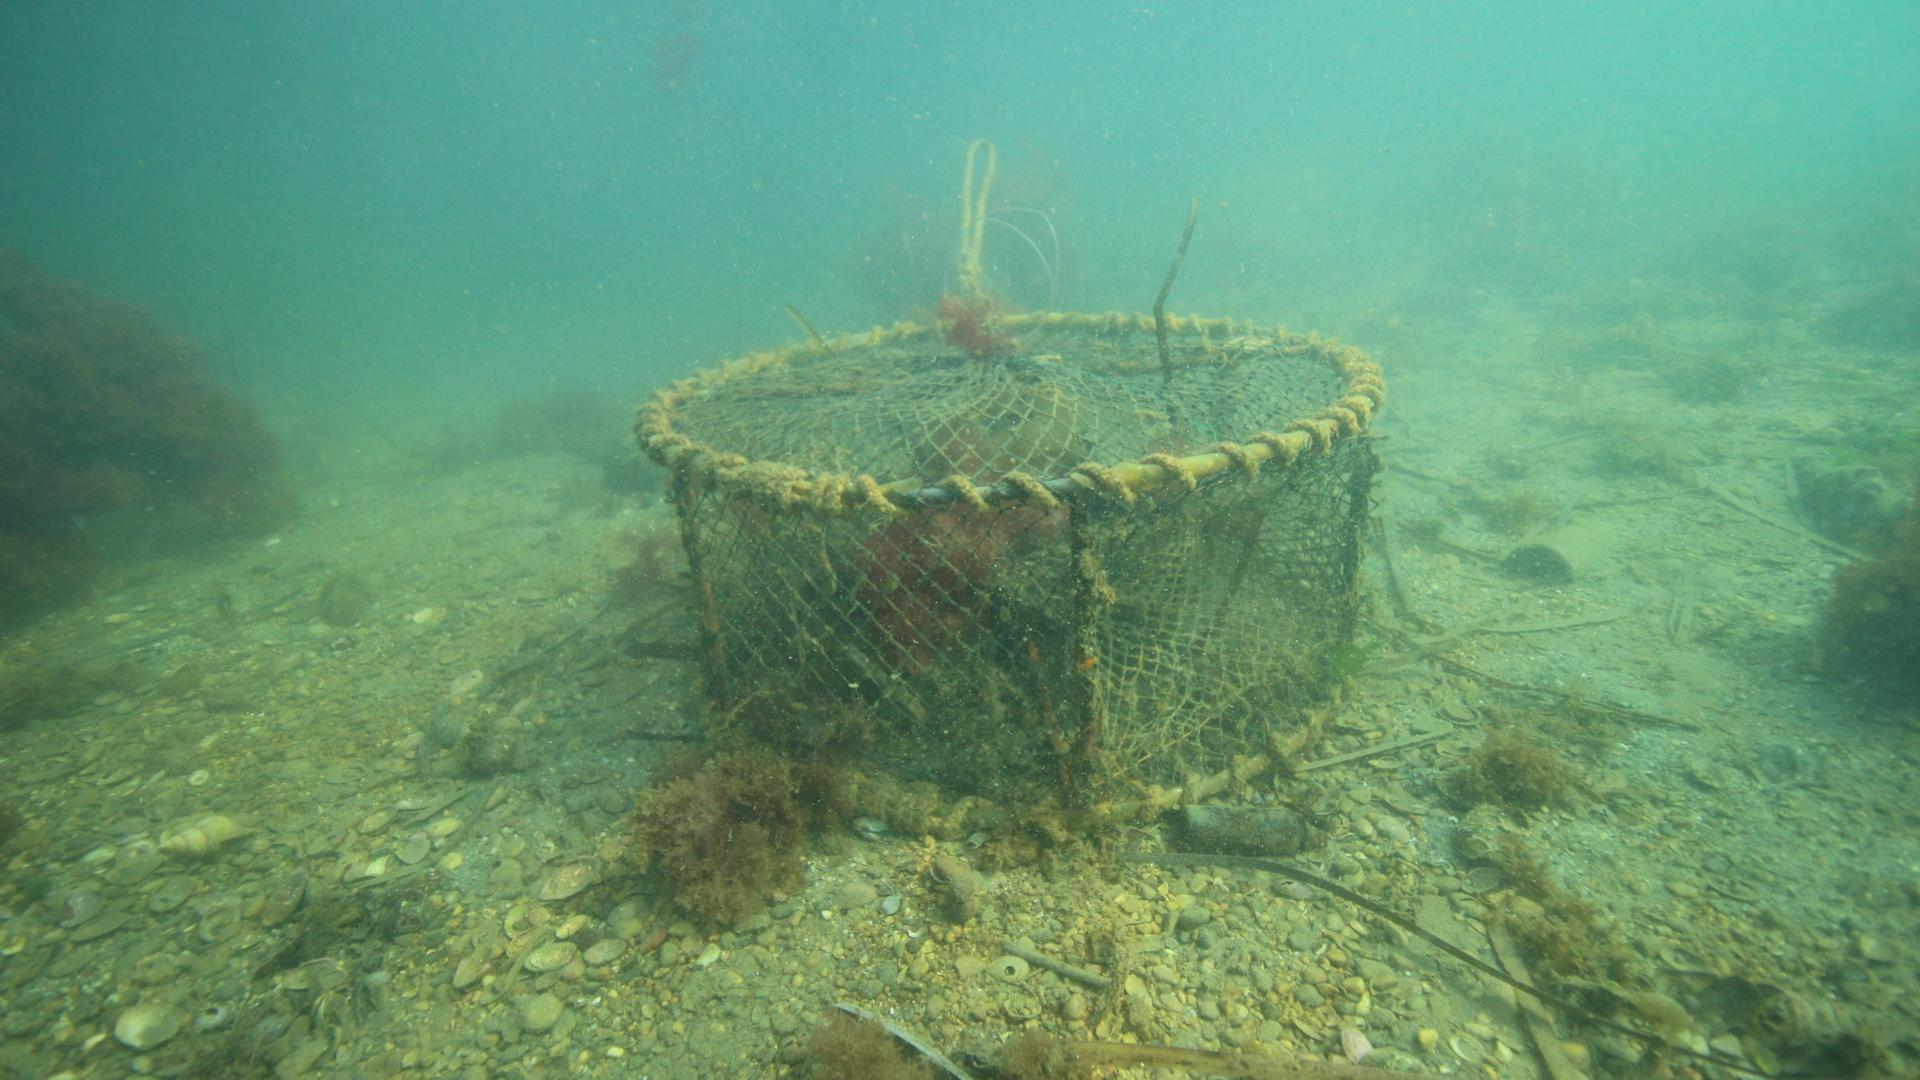bundle of ropes: (953, 135, 1000, 290)
circular fish trap: (630, 309, 1386, 831)
